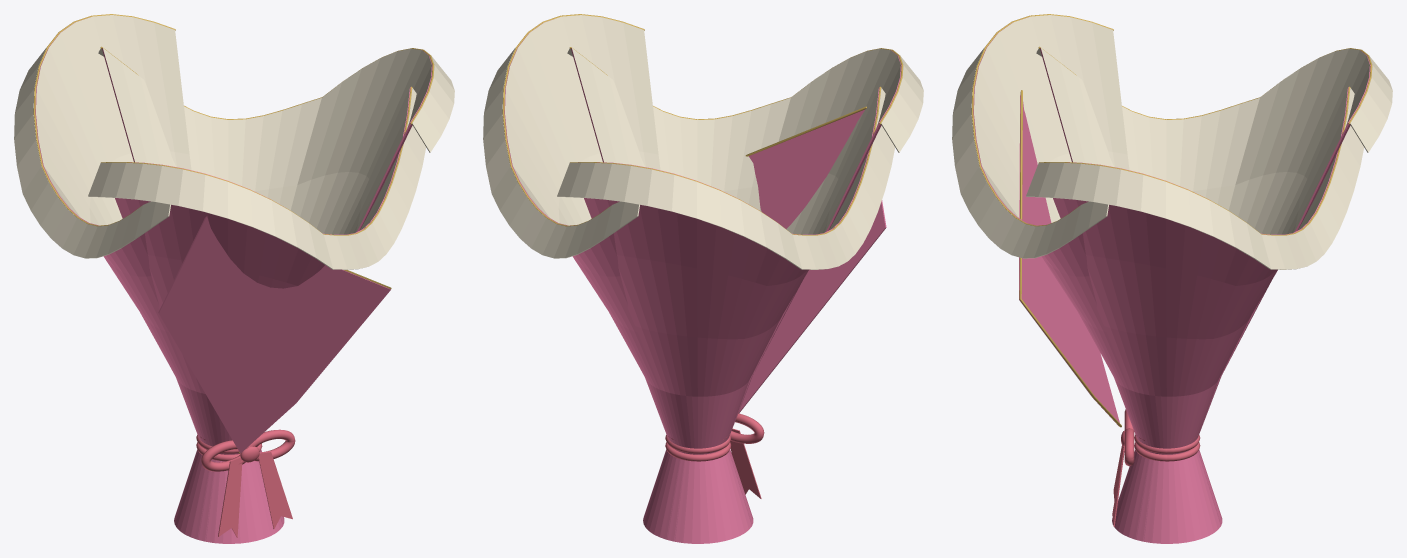
Rendered from bouquet_silk.glb.
The picture shows the model from 3 angles, left to right: view 1: azimuth 30°, elevation 25°; view 2: azimuth 150°, elevation 25°; view 3: azimuth 270°, elevation 25°; orthographic projection.
Parts seen in each view (by area): view 1: Open_folded_silk_sheet.001, Overlapping_diagonal_front_flap, Open_folded_silk_sheet.002, Visible_cream_folded_lapel, Open_folded_silk_sheet, Visible_cream_folded_lapel.002, Folded_lower_skirt, Folded_lower_skirt.002, Visible_cream_folded_lapel.001, Downward_notched_ribbon.001, Downward_notched_ribbon, Fine_gold_hem.002 (+3 smaller); view 2: Open_folded_silk_sheet.002, Open_folded_silk_sheet.001, Open_folded_silk_sheet, Visible_cream_folded_lapel.002, Overlapping_diagonal_front_flap, Visible_cream_folded_lapel.001, Folded_lower_skirt.002, Folded_lower_skirt.001, Visible_cream_folded_lapel, Downward_notched_ribbon, Fine_gold_hem.001, Fine_gold_hem.002 (+2 smaller); view 3: Open_folded_silk_sheet.001, Open_folded_silk_sheet.002, Open_folded_silk_sheet, Visible_cream_folded_lapel.001, Visible_cream_folded_lapel, Overlapping_diagonal_front_flap, Folded_lower_skirt.001, Folded_lower_skirt, Visible_cream_folded_lapel.002, Diagonal_fold_seam, Fine_gold_hem, Fine_gold_hem.001 (+1 smaller).
Boxes of the visible parts, left/top/right/bottom form: Open_folded_silk_sheet.001: left=102, top=47, right=432, bottom=234; Overlapping_diagonal_front_flap: left=158, top=216, right=390, bottom=453; Open_folded_silk_sheet.002: left=35, top=15, right=207, bottom=449; Visible_cream_folded_lapel: left=88, top=88, right=426, bottom=269; Open_folded_silk_sheet: left=115, top=87, right=410, bottom=454; Visible_cream_folded_lapel.002: left=14, top=33, right=170, bottom=258; Folded_lower_skirt: left=191, top=449, right=284, bottom=543; Folded_lower_skirt.002: left=174, top=449, right=219, bottom=542; Visible_cream_folded_lapel.001: left=98, top=49, right=454, bottom=152; Downward_notched_ribbon.001: left=258, top=452, right=292, bottom=528; Downward_notched_ribbon: left=218, top=457, right=242, bottom=537; Fine_gold_hem.002: left=33, top=14, right=175, bottom=226; Open_folded_silk_sheet.002: left=578, top=87, right=879, bottom=454; Open_folded_silk_sheet.001: left=504, top=15, right=687, bottom=453; Open_folded_silk_sheet: left=571, top=47, right=901, bottom=437; Visible_cream_folded_lapel.002: left=557, top=88, right=895, bottom=269; Overlapping_diagonal_front_flap: left=738, top=109, right=886, bottom=413; Visible_cream_folded_lapel.001: left=483, top=22, right=639, bottom=258; Folded_lower_skirt.002: left=660, top=449, right=753, bottom=543; Folded_lower_skirt.001: left=643, top=449, right=688, bottom=542; Visible_cream_folded_lapel: left=567, top=48, right=923, bottom=152; Downward_notched_ribbon: left=730, top=428, right=761, bottom=498; Fine_gold_hem.001: left=502, top=14, right=644, bottom=226; Fine_gold_hem.002: left=570, top=86, right=881, bottom=235; Open_folded_silk_sheet.001: left=1053, top=87, right=1348, bottom=454; Open_folded_silk_sheet.002: left=1040, top=47, right=1370, bottom=437; Open_folded_silk_sheet: left=973, top=15, right=1156, bottom=453; Visible_cream_folded_lapel.001: left=1026, top=88, right=1364, bottom=269; Visible_cream_folded_lapel: left=952, top=33, right=1108, bottom=258; Overlapping_diagonal_front_flap: left=1019, top=95, right=1119, bottom=425; Folded_lower_skirt.001: left=1129, top=450, right=1222, bottom=543; Folded_lower_skirt: left=1112, top=449, right=1157, bottom=542; Visible_cream_folded_lapel.002: left=1036, top=49, right=1392, bottom=152; Diagonal_fold_seam: left=1019, top=90, right=1121, bottom=427; Fine_gold_hem: left=971, top=14, right=1113, bottom=226; Fine_gold_hem.001: left=1039, top=86, right=1350, bottom=235.
Size of the model in its own units: 0.3522 by 0.3965 by 0.3606.
